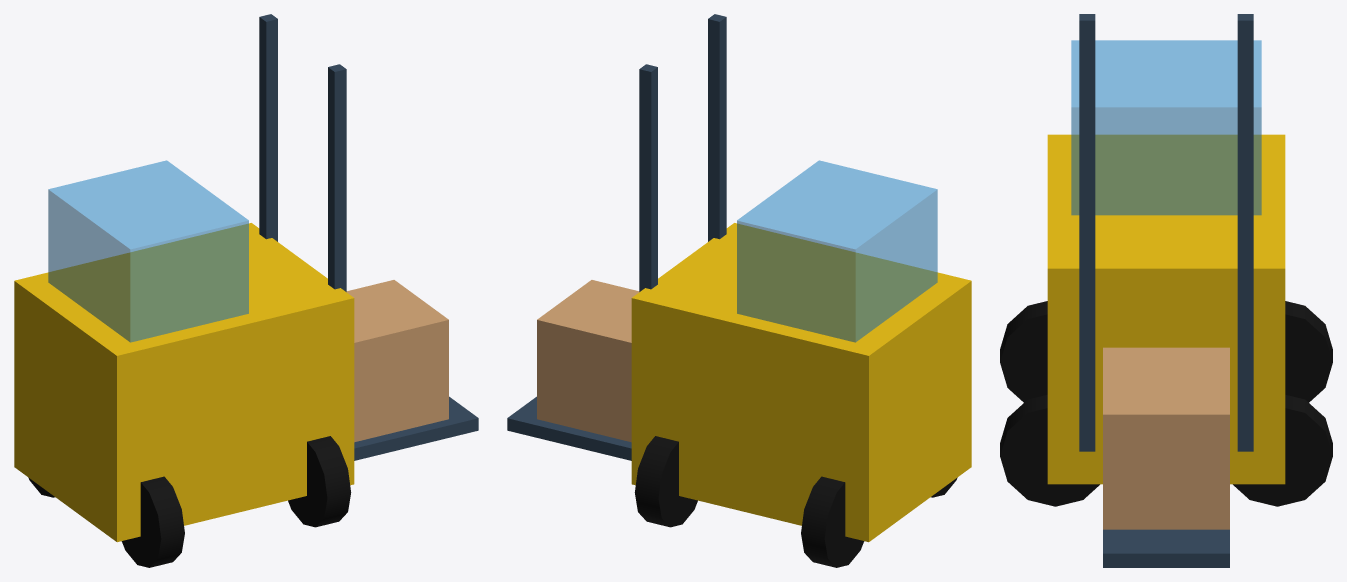
The model's file is forklift.glb.
The picture shows the model from 3 angles, left to right: view 1: azimuth 30°, elevation 25°; view 2: azimuth 150°, elevation 25°; view 3: azimuth 270°, elevation 25°; orthographic projection. The views are drawn at different scales.
Parts seen in each view (by area): view 1: forklift, forkliftCargo, wheel (×2), fork; view 2: forklift, forkliftCargo, wheel (×2), fork; view 3: forklift, forkliftCargo, wheel (×4), fork.
Part boxes in pixels (x1,y1,x2,y2): forklift: (14,14,354,542); forkliftCargo: (346,280,448,442); wheel (×2): (121,436,351,567); fork: (354,396,478,460); forklift: (631,14,971,542); forkliftCargo: (537,280,639,442); wheel (×2): (634,436,864,567); fork: (507,396,631,460); forklift: (1047,14,1285,484); forkliftCargo: (1103,347,1229,529); wheel (×4): (1000,301,1332,506); fork: (1103,529,1229,567).
Bounding box in the file's own units: 3.25 × 3.5 × 2.1.
